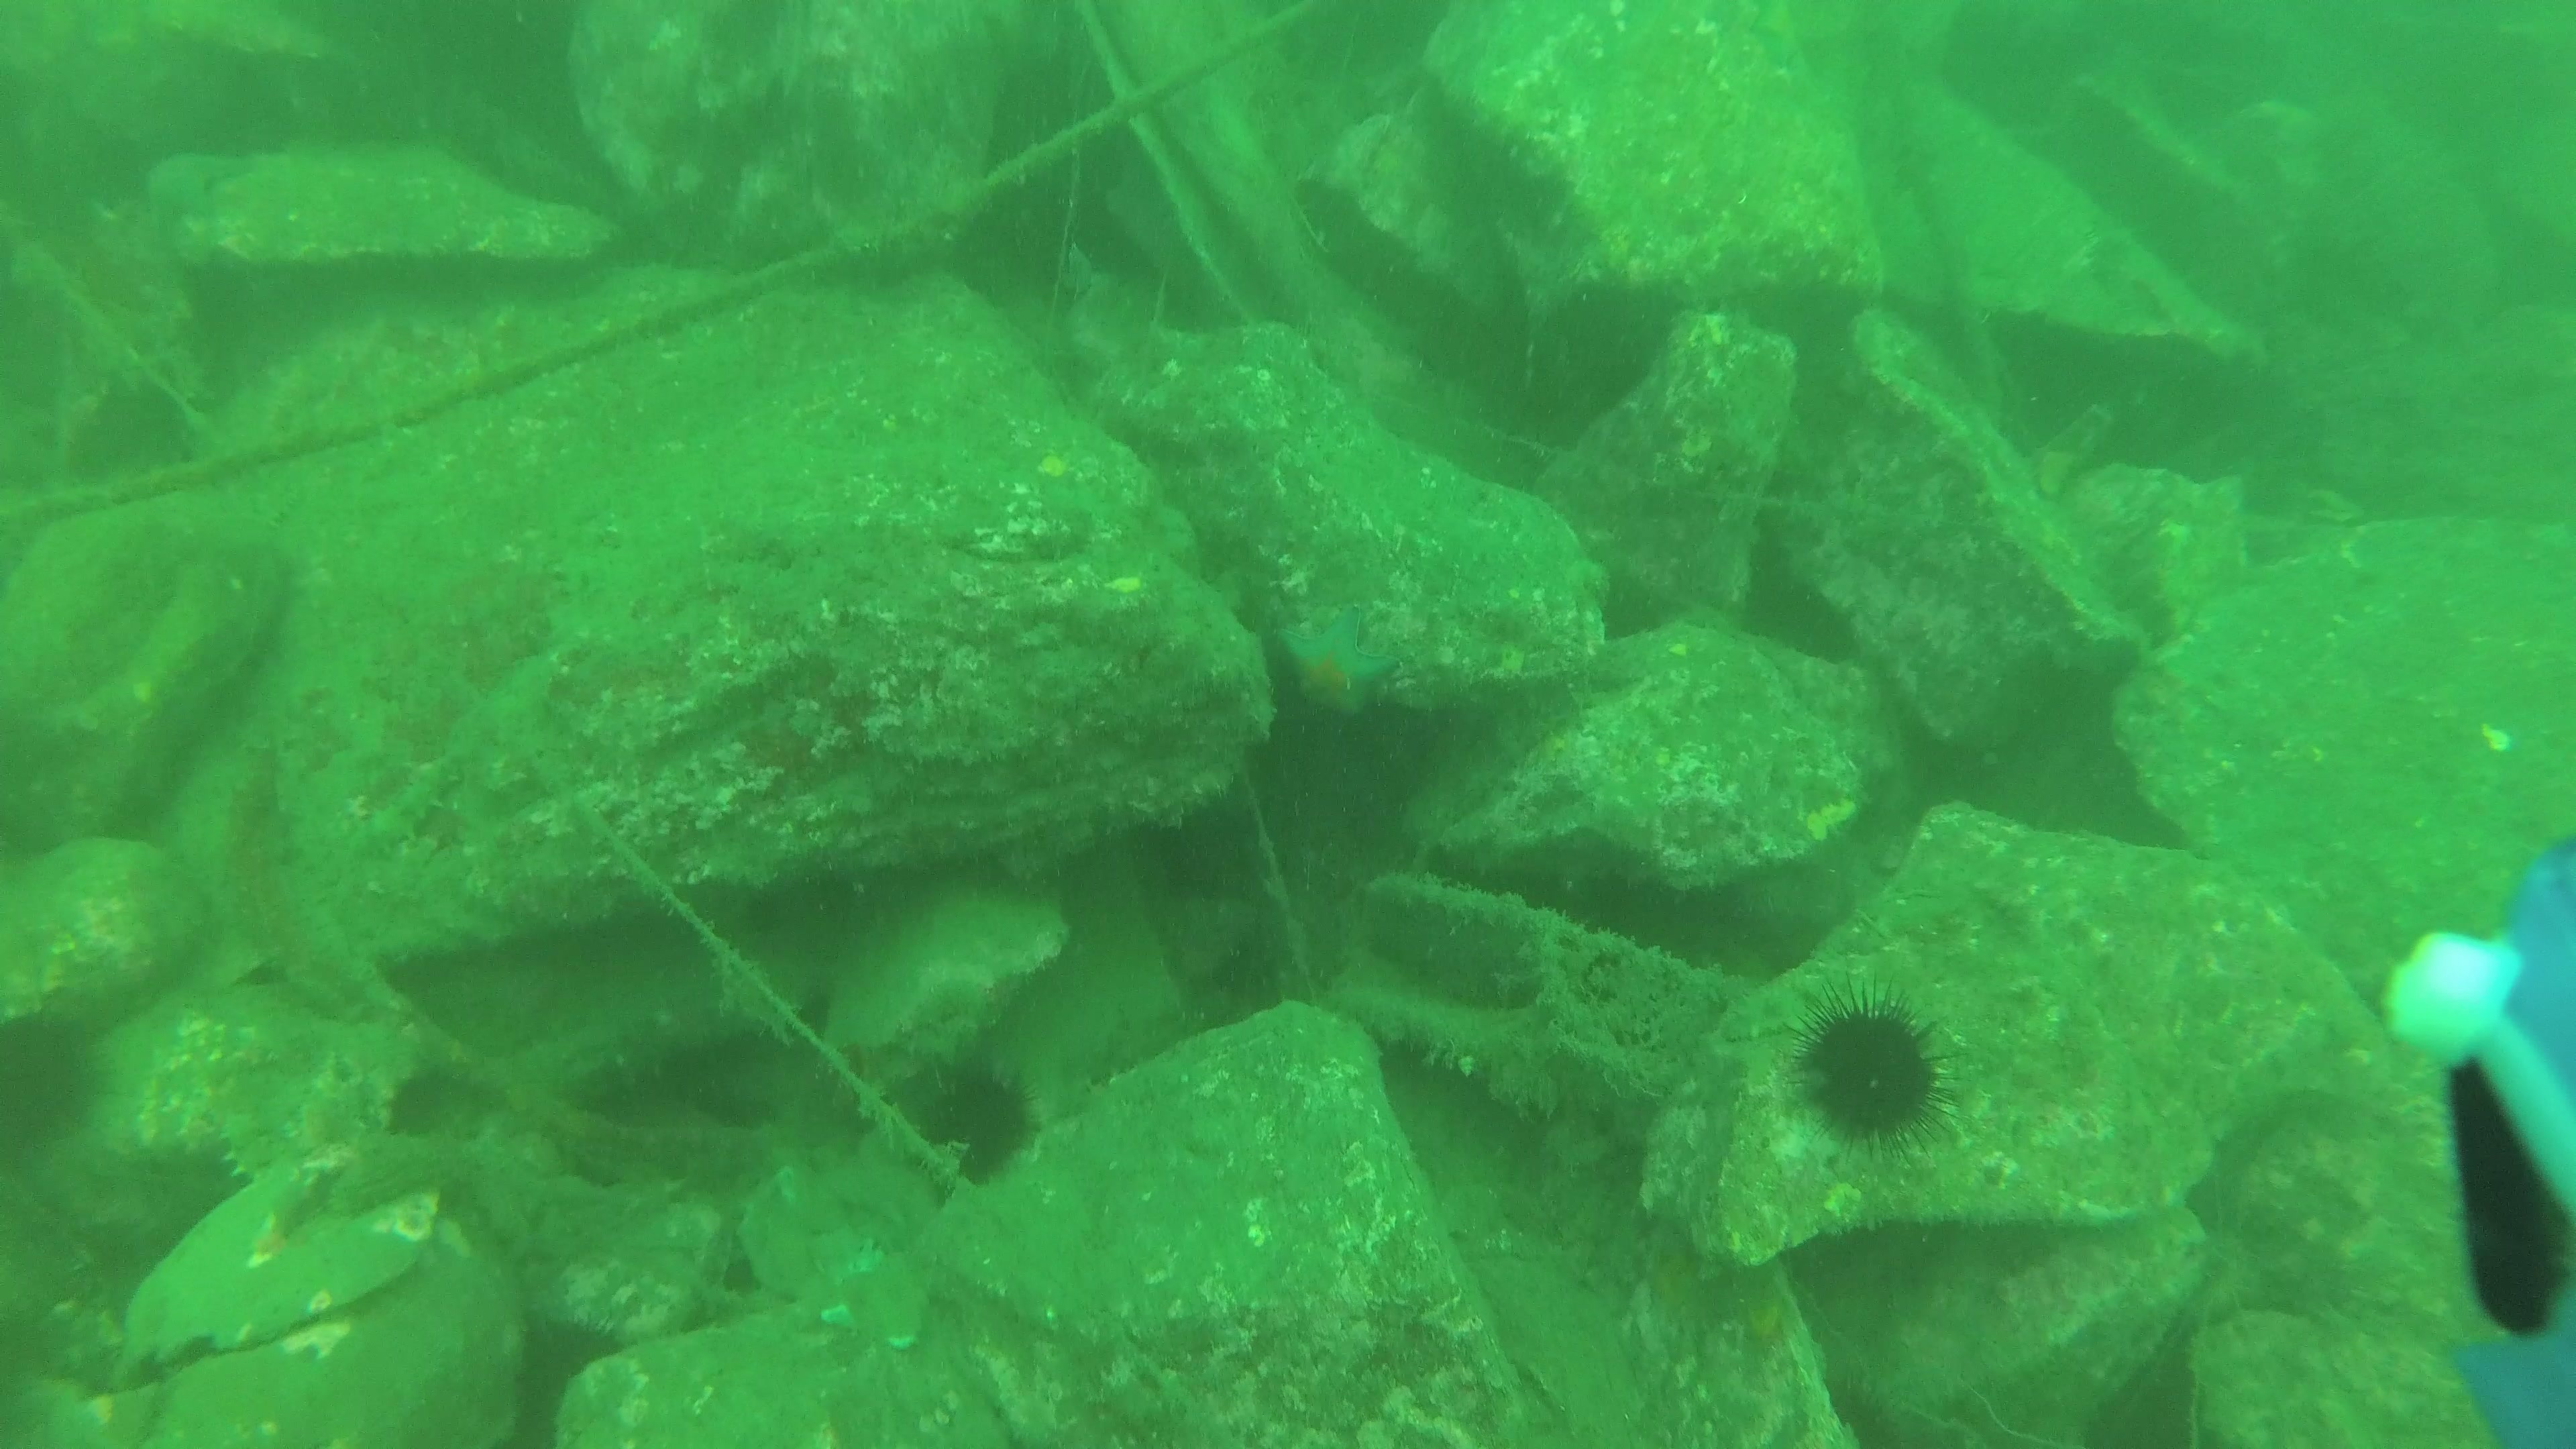echinus: (1775, 989, 1955, 1157), (727, 985, 867, 1109), (4, 1010, 143, 1132)
starfish: (1265, 602, 1414, 731)
